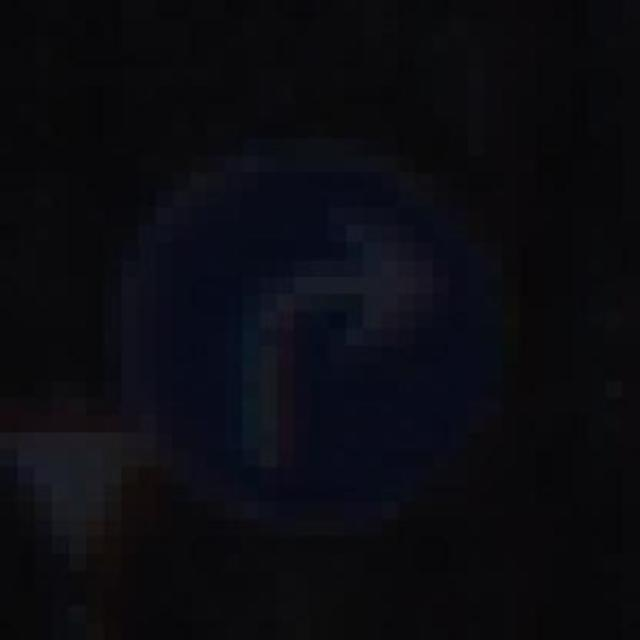Turn right ahead: (103, 103, 571, 554)
